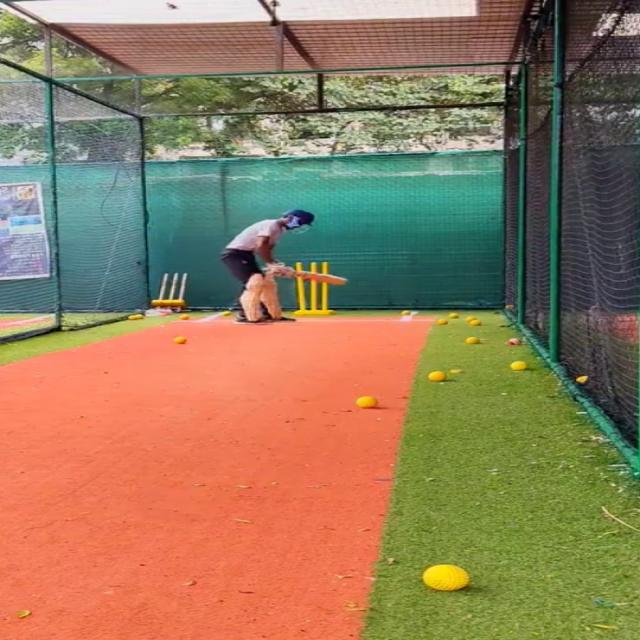ball: (426, 562, 476, 594), (354, 393, 384, 412), (425, 367, 453, 384), (511, 360, 531, 371), (467, 335, 484, 345), (507, 336, 524, 346), (172, 335, 190, 344), (127, 313, 143, 322), (469, 319, 485, 326), (220, 310, 234, 318), (180, 312, 192, 321), (401, 308, 414, 316), (438, 317, 450, 325), (450, 313, 460, 318)
stump: (293, 260, 335, 316)
